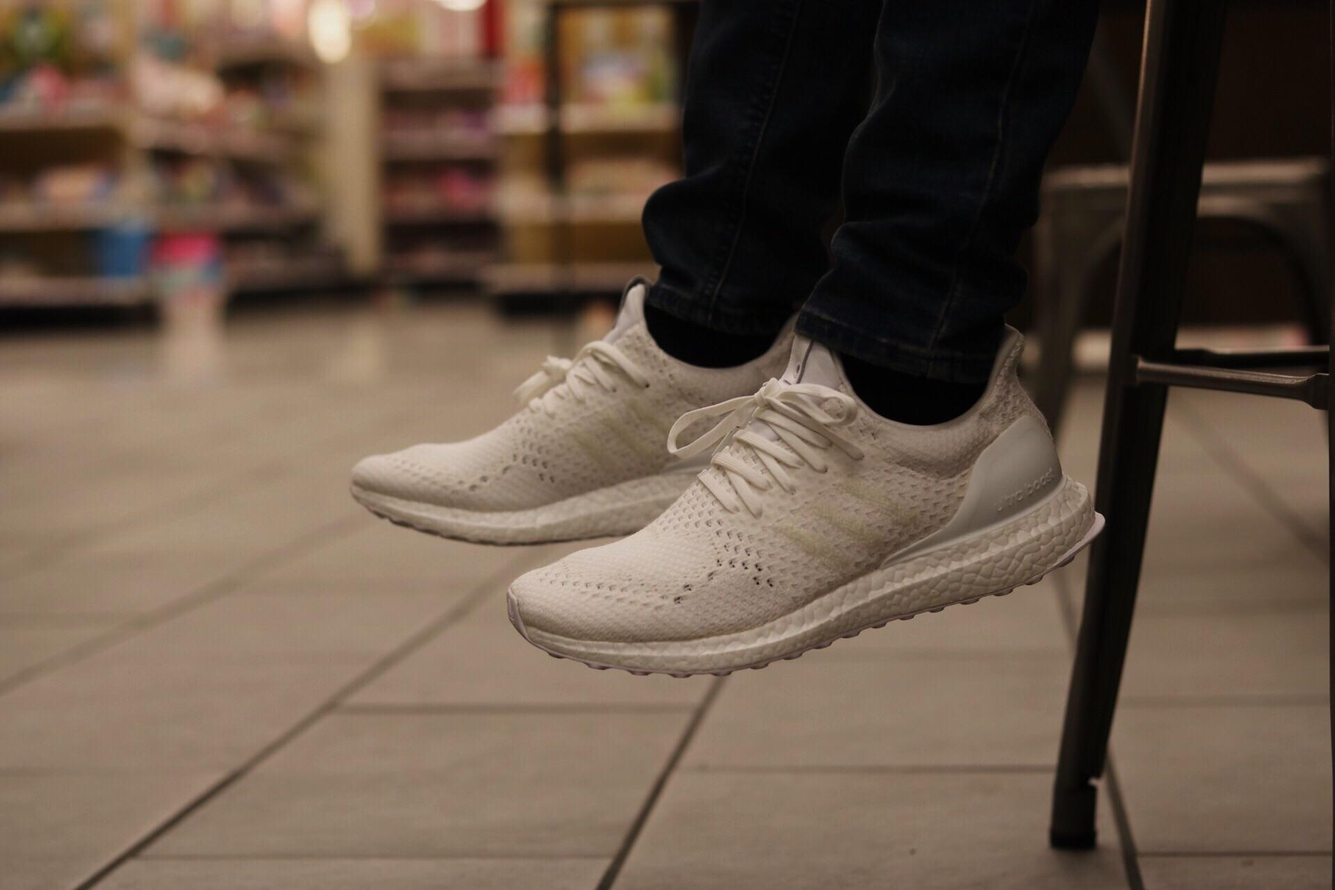sneaker: (501, 370, 1080, 672), (347, 282, 700, 534)
